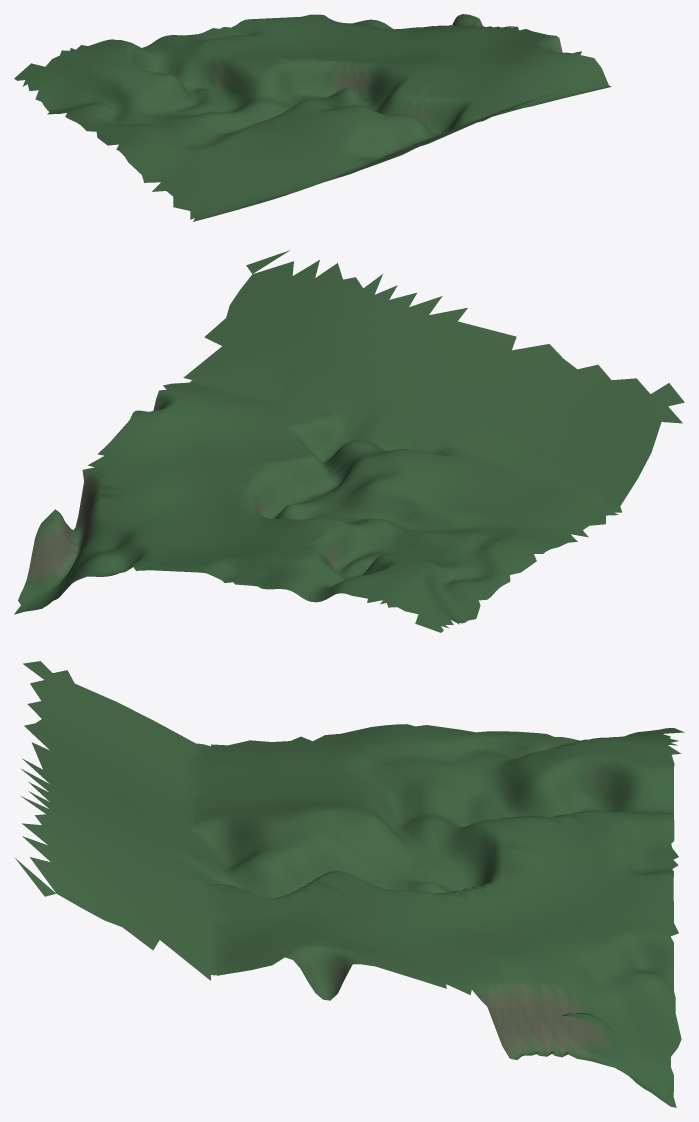
Rendered from payo_land_xm3_y9.glb.
The picture shows the model from 3 angles, top to bottom: view 1: azimuth 30°, elevation 25°; view 2: azimuth 150°, elevation 25°; view 3: azimuth 270°, elevation 25°; orthographic projection. The views are drawn at different scales.
Parts seen in each view (by area): view 1: payo_land_xm3_y9; view 2: payo_land_xm3_y9; view 3: payo_land_xm3_y9.
Boxes of the visible parts, x1,y1,x2,y2 form: payo_land_xm3_y9: (14,14,611,221); payo_land_xm3_y9: (14,250,684,632); payo_land_xm3_y9: (14,661,684,1107).
Bounding box in the file's own units: 268 × 106 × 269.
